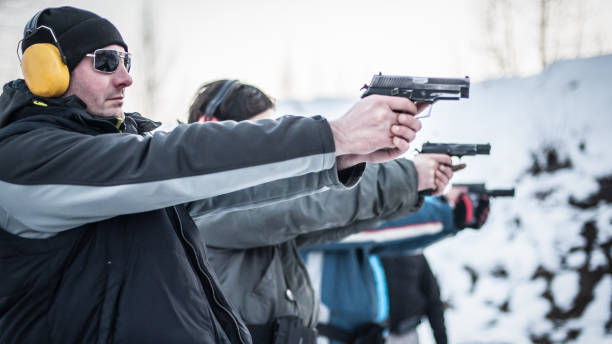gun: (356, 71, 472, 121), (415, 139, 491, 166), (452, 183, 517, 200)
